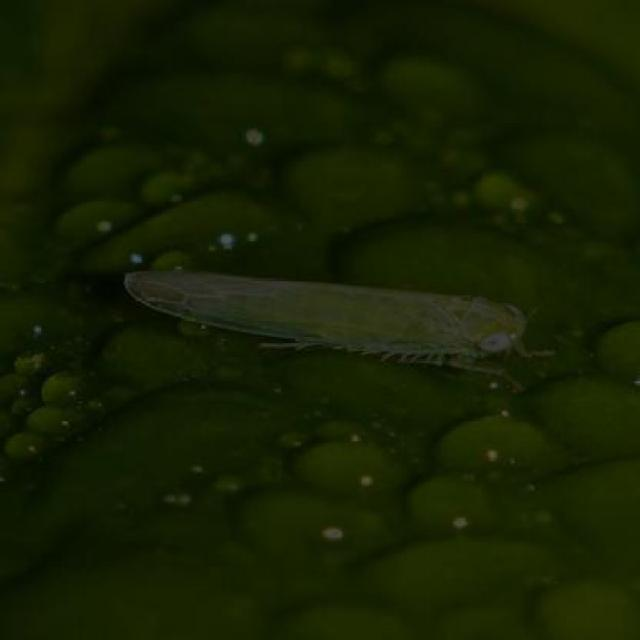green-leafhopper: (126, 266, 528, 377)
